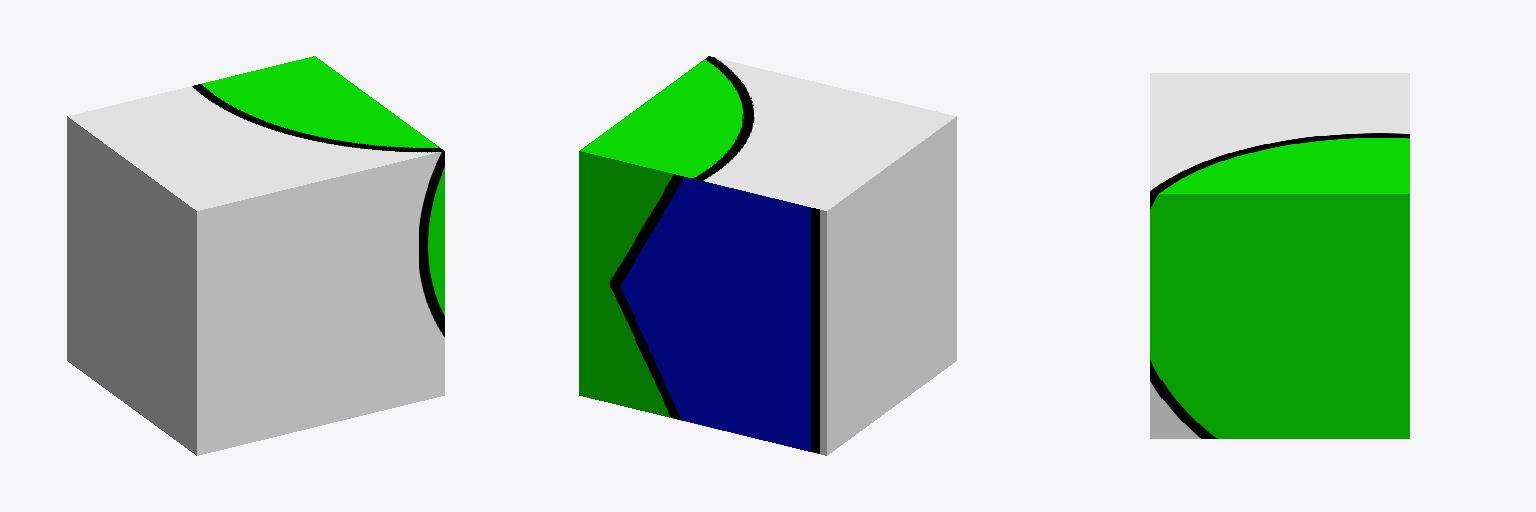
The picture shows the model from 3 angles: view 1: azimuth 30°, elevation 25°; view 2: azimuth 150°, elevation 25°; view 3: azimuth 270°, elevation 25°; orthographic projection.
Visible parts, largest first — view 1: Cube_Cube.001; view 2: Cube_Cube.001; view 3: Cube_Cube.001.
Boxes of the visible parts, <box> form: Cube_Cube.001: <box>67,56,444,455</box>; Cube_Cube.001: <box>579,56,956,455</box>; Cube_Cube.001: <box>1150,73,1409,438</box>.
Bounding box in the file's own units: 3.2 × 3.02 × 2.9.
Materials: 1 (1 with a texture image).